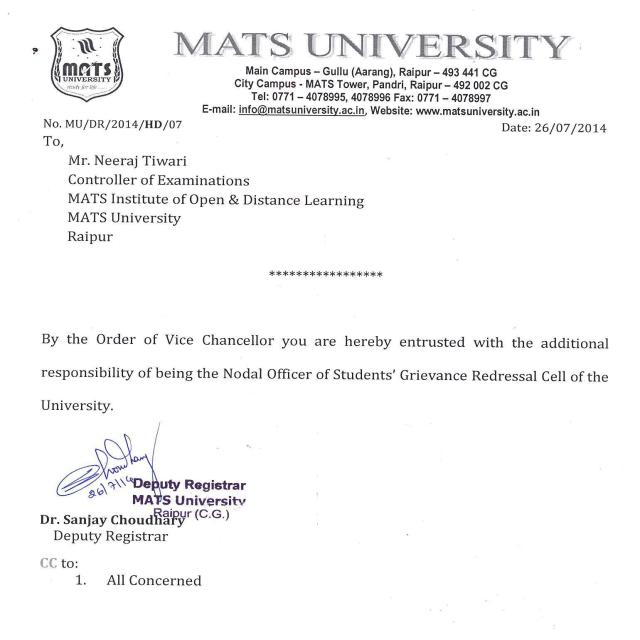signature: (48, 418, 179, 503)
